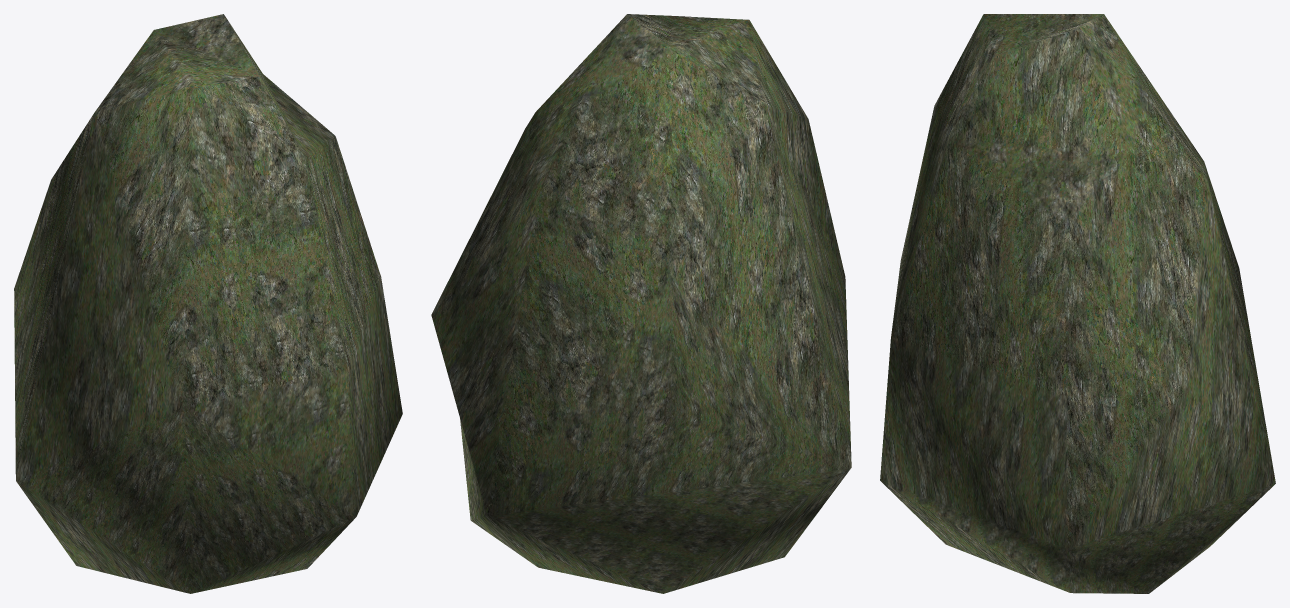
The model's file is mtns_rock_moss_a1_l1.fbx.
3 renders of one model, left to right at view 1: azimuth 30°, elevation 25°; view 2: azimuth 150°, elevation 25°; view 3: azimuth 270°, elevation 25°, orthographic.
Visible parts, largest first — view 1: mesh_node; view 2: mesh_node; view 3: mesh_node.
Part boxes in pixels (<box>): mesh_node: <box>14,14,402,593</box>; mesh_node: <box>431,14,851,593</box>; mesh_node: <box>880,14,1275,593</box>.
Size of the model in its own units: 2.26 by 2.85 by 2.
